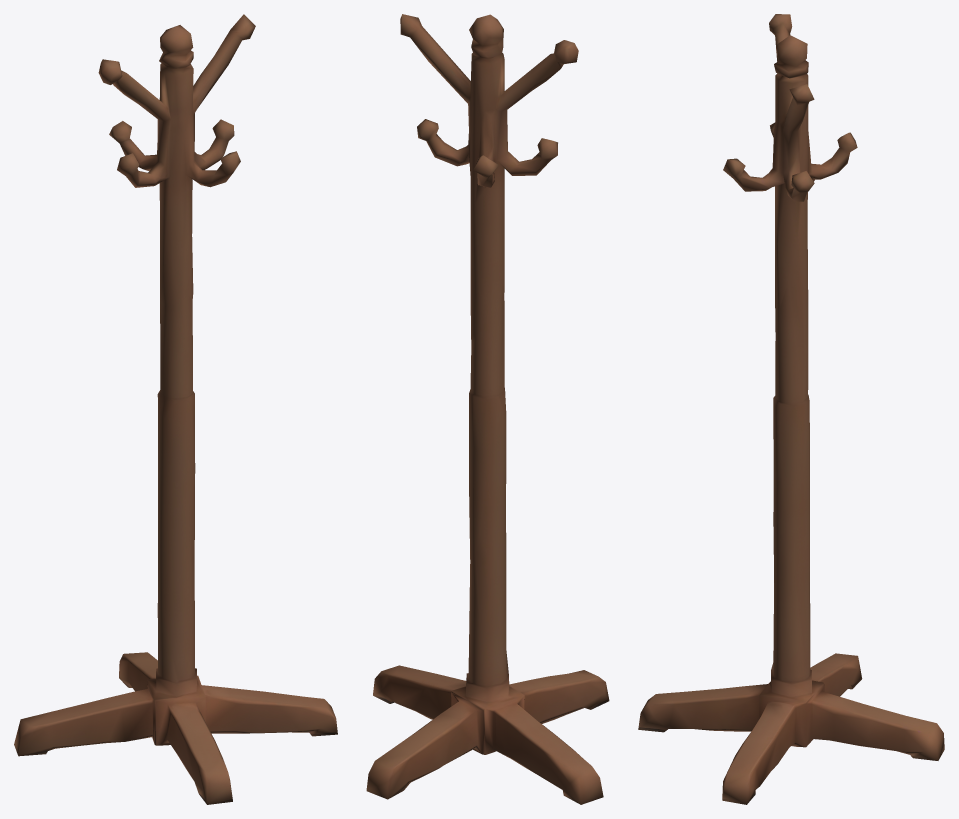
Rendered from ENV_COATRACK_v001_RAW.glb.
3 views of the same model, side by side, from view 1: azimuth 30°, elevation 25°; view 2: azimuth 150°, elevation 25°; view 3: azimuth 270°, elevation 25° (orthographic). The views are drawn at different scales.
Visible parts, largest first — view 1: tripo_node_da3f94e3-cf95-4b9b-9938-ae9781f93ed0; view 2: tripo_node_da3f94e3-cf95-4b9b-9938-ae9781f93ed0; view 3: tripo_node_da3f94e3-cf95-4b9b-9938-ae9781f93ed0.
Part boxes in pixels (<box>): tripo_node_da3f94e3-cf95-4b9b-9938-ae9781f93ed0: <box>14,14,337,804</box>; tripo_node_da3f94e3-cf95-4b9b-9938-ae9781f93ed0: <box>366,14,609,804</box>; tripo_node_da3f94e3-cf95-4b9b-9938-ae9781f93ed0: <box>638,14,944,804</box>.
Bounding box in the file's own units: 0.3887 × 0.9815 × 0.3867.
Materials: 1 (1 with a texture image).
